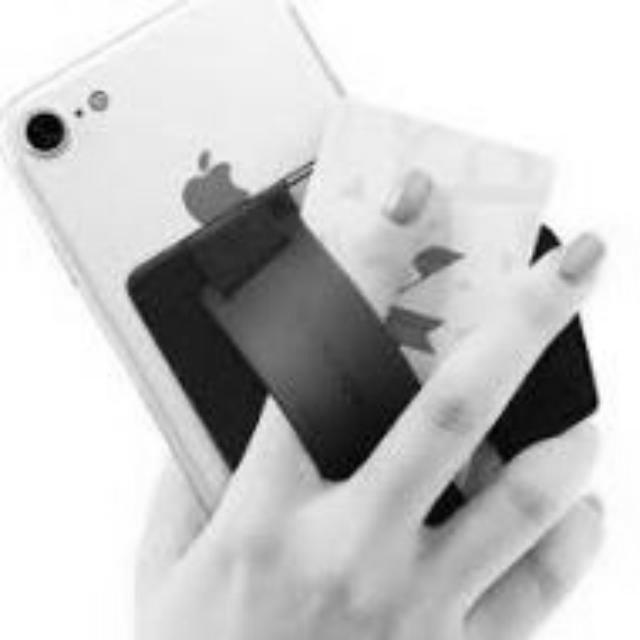fake: (0, 4, 423, 578)
